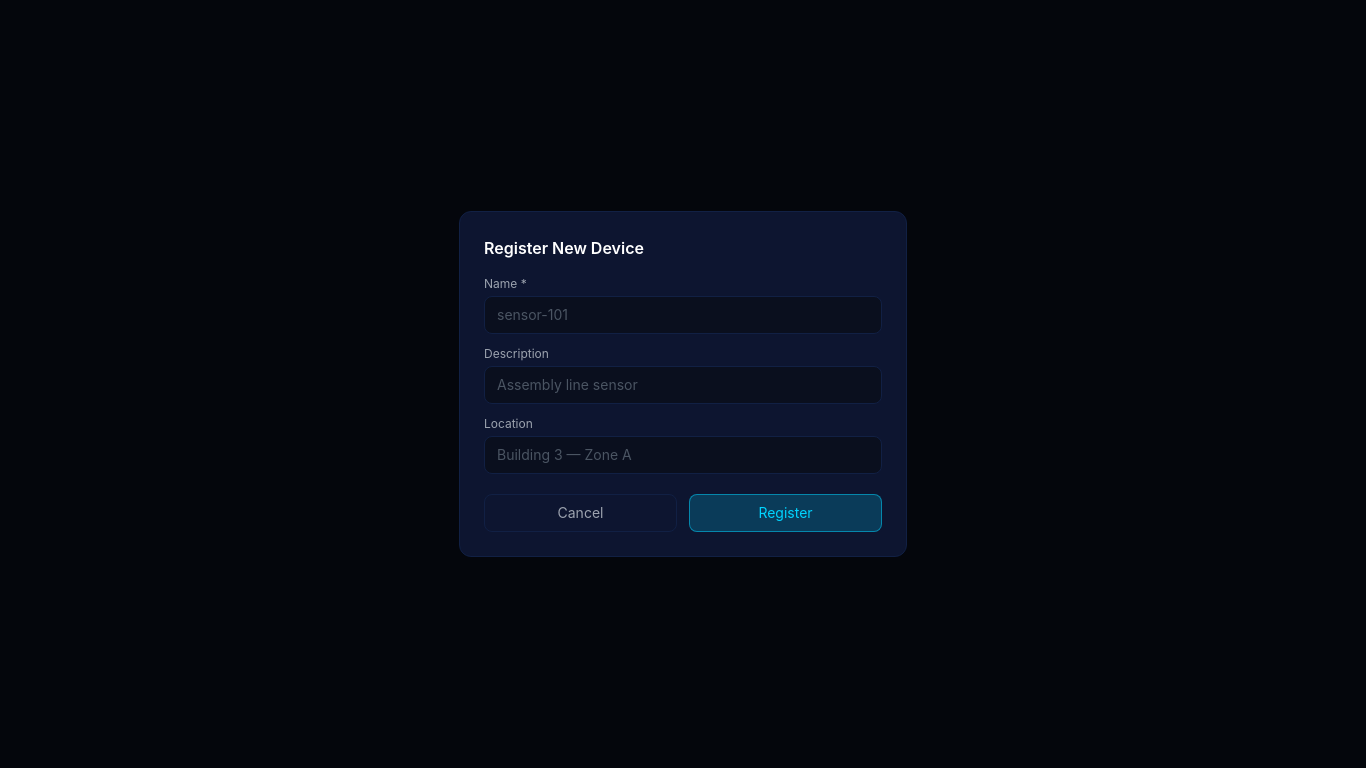
submitting with empty name shows validation error
Click the button "Register" at (786, 513), box [689,494,882,532]
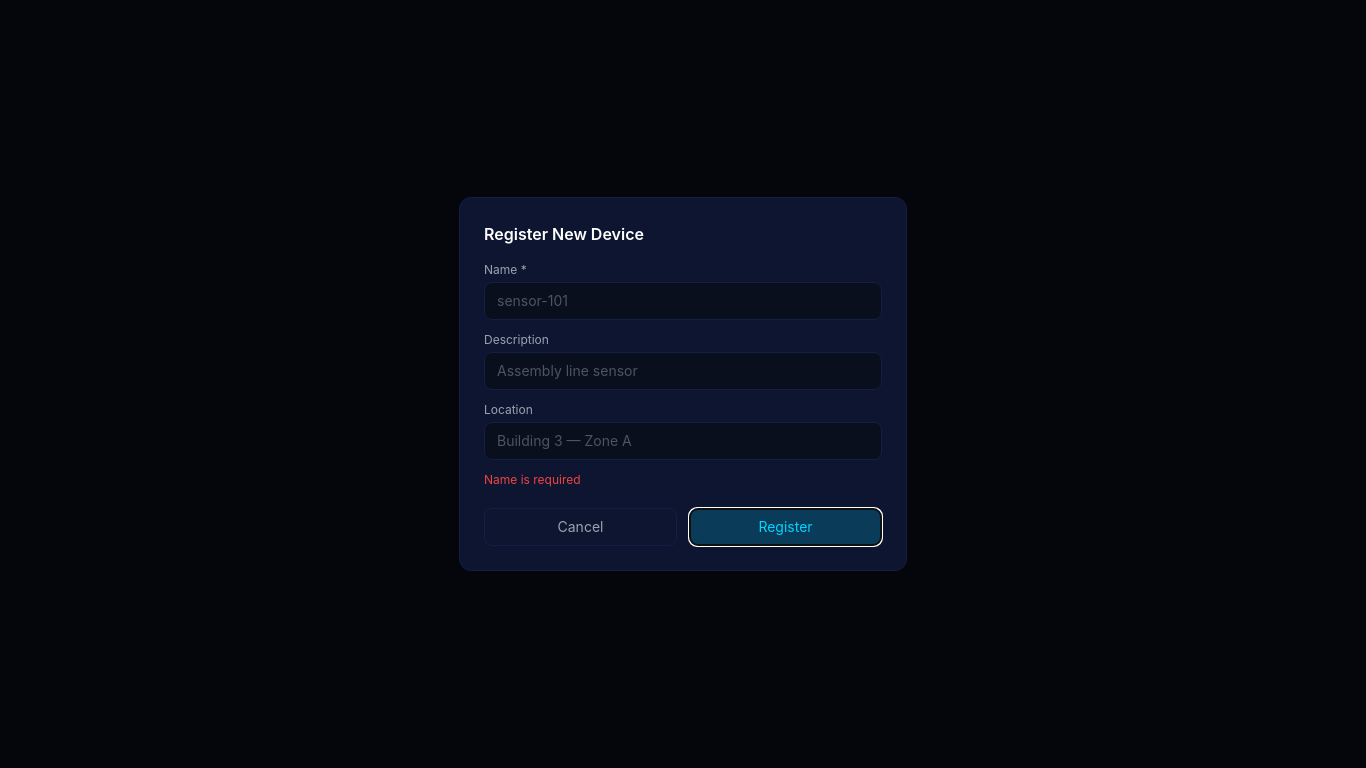
Result: the text "Name is required" is shown at [484,472,581,487]
